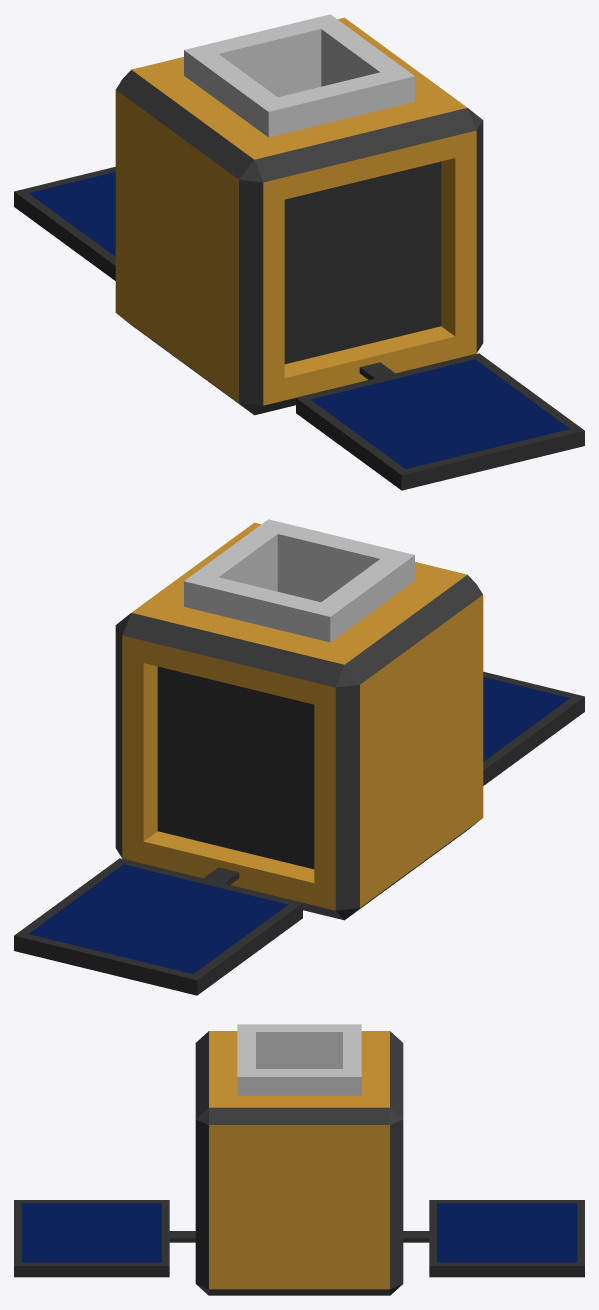
File: Debris 002.fbx
3 renders of one model, top to bottom at view 1: azimuth 30°, elevation 25°; view 2: azimuth 150°, elevation 25°; view 3: azimuth 270°, elevation 25°, orthographic. The views are drawn at different scales.
Parts seen in each view (by area): view 1: Cube; view 2: Cube; view 3: Cube.
Part boxes in pixels (x1,y1,x2,y2): Cube: (14, 14, 584, 490); Cube: (14, 519, 584, 995); Cube: (14, 1024, 584, 1295).
Bounding box in the file's own units: 200 × 220 × 550.
